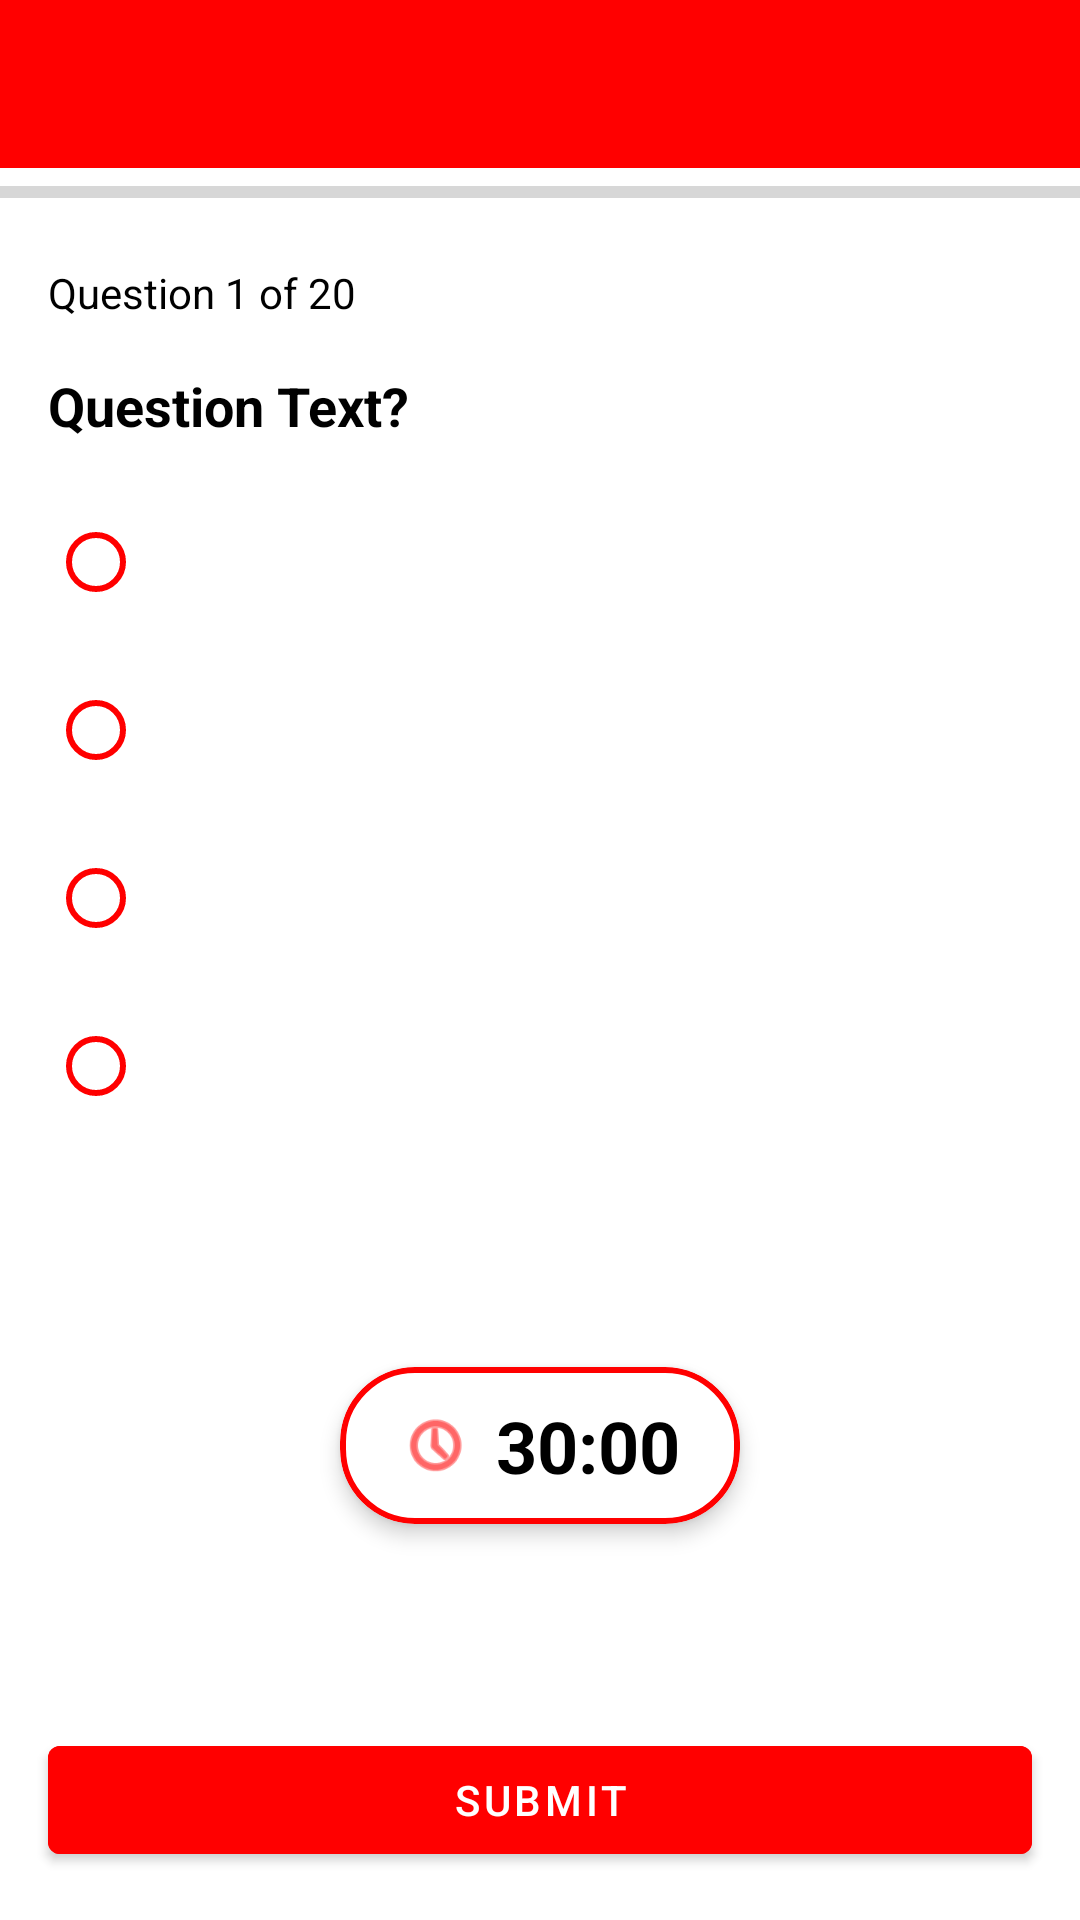

Icons on this 1080px×1920px Android screen, each with the point to tap as (x=x, y=y):
recent history: (x=435, y=1445)
